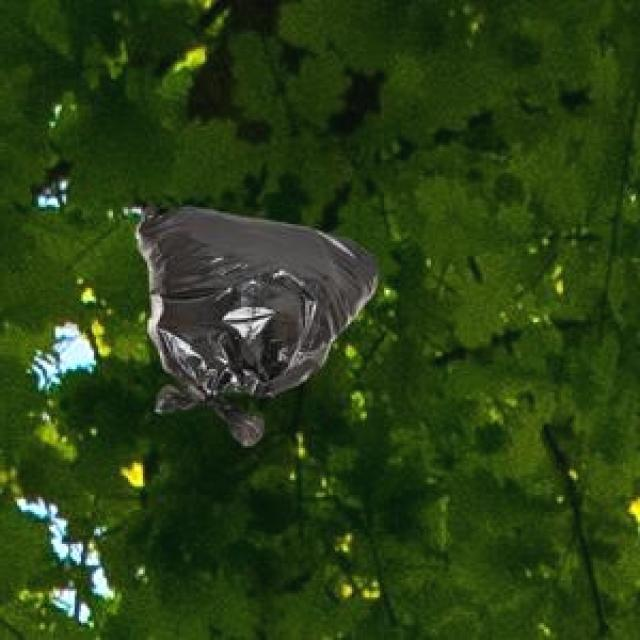Trashbag: (133, 198, 385, 451)
